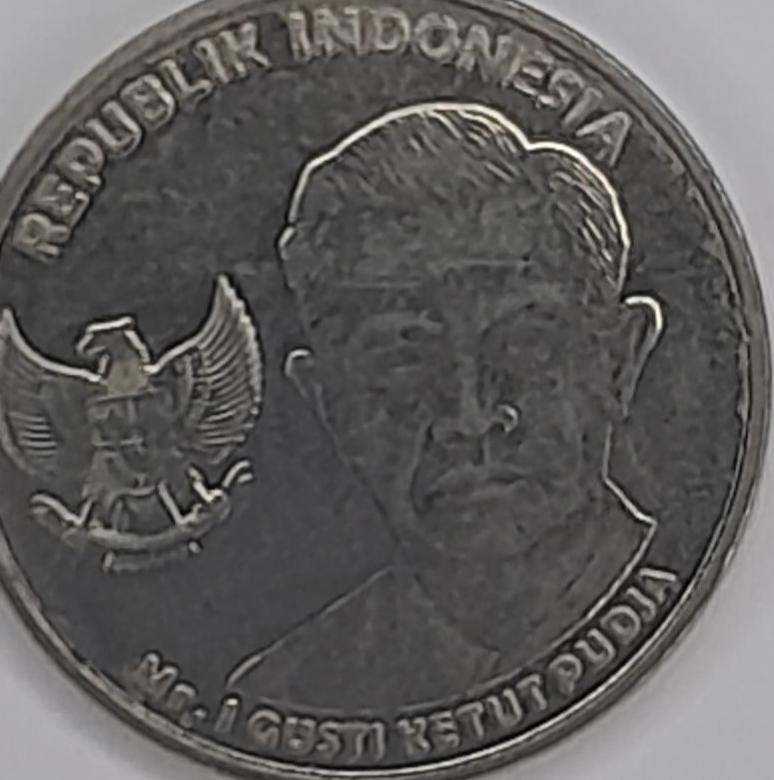coin_1000_e2016: (13, 15, 764, 780)
